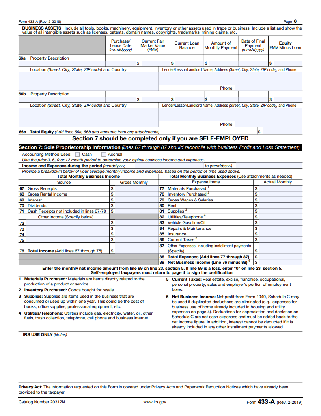checkbox: (74, 151, 80, 158), (101, 151, 107, 157)
textbox: (18, 100, 160, 129), (157, 65, 304, 93), (155, 101, 304, 128), (17, 65, 160, 93), (24, 218, 110, 227), (24, 234, 110, 243), (252, 241, 304, 255), (24, 224, 110, 232), (24, 229, 110, 237), (108, 241, 160, 254), (234, 161, 304, 170), (134, 89, 172, 105), (202, 89, 240, 105), (130, 162, 205, 170), (267, 88, 304, 104), (256, 125, 304, 137), (169, 89, 206, 104), (104, 88, 138, 104), (267, 53, 303, 68), (251, 184, 304, 194), (251, 216, 304, 226), (252, 188, 304, 198), (252, 211, 304, 221), (252, 228, 304, 238), (252, 251, 304, 261), (252, 256, 304, 266), (134, 53, 171, 67), (168, 54, 205, 68), (202, 53, 239, 67), (236, 89, 270, 104), (251, 194, 304, 203), (250, 206, 303, 215), (236, 53, 270, 67), (251, 200, 303, 209), (252, 223, 304, 232), (252, 234, 304, 243), (104, 53, 137, 67), (107, 201, 160, 209), (107, 206, 160, 214), (107, 218, 160, 226), (107, 229, 160, 237), (107, 235, 160, 243), (108, 190, 160, 198), (107, 224, 159, 232), (107, 196, 160, 203), (108, 185, 160, 192)
